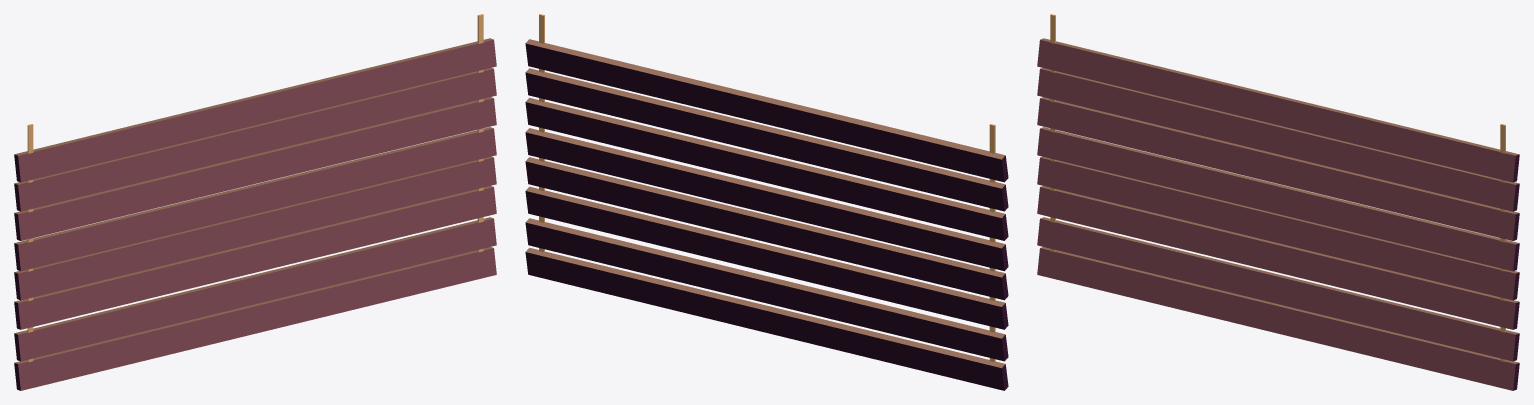
File: Interior_Blinds.fbx
The picture shows the model from 3 angles, left to right: view 1: azimuth 30°, elevation 25°; view 2: azimuth 150°, elevation 25°; view 3: azimuth 330°, elevation 25°; orthographic projection.
Parts seen in each view (by area): view 1: Cube.366; view 2: Cube.366; view 3: Cube.366.
Boxes of the visible parts, box(x1,y1,x2,y2) form: Cube.366: box(14, 14, 496, 390); Cube.366: box(525, 14, 1008, 390); Cube.366: box(1037, 14, 1519, 390).
Bounding box in the file's own units: 160 × 84.49 × 3.93.
